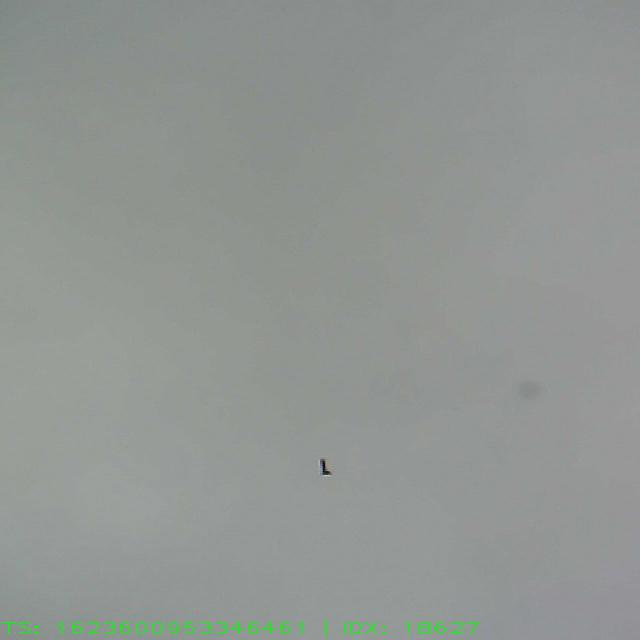Rocket: (317, 457, 332, 477)
